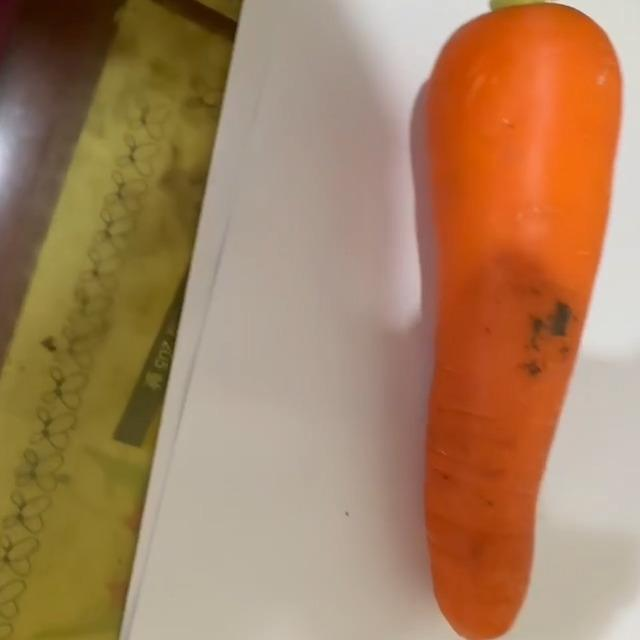carrot: (421, 1, 625, 640)
